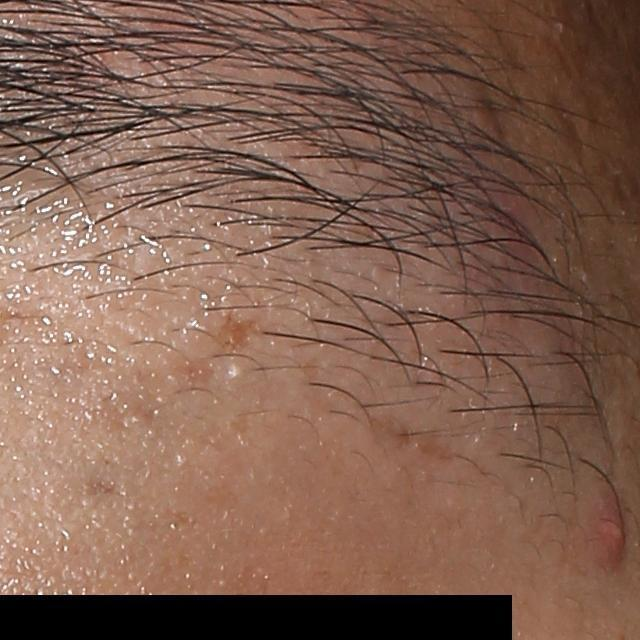melasma: (96, 334, 218, 462), (198, 306, 270, 354), (78, 470, 140, 512)
